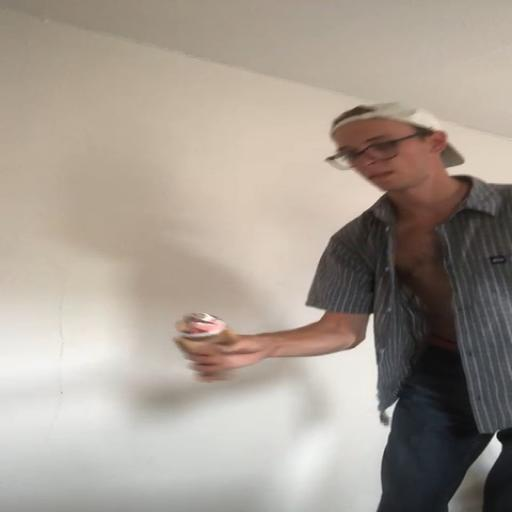kendama_ball: (175, 313, 225, 340)
